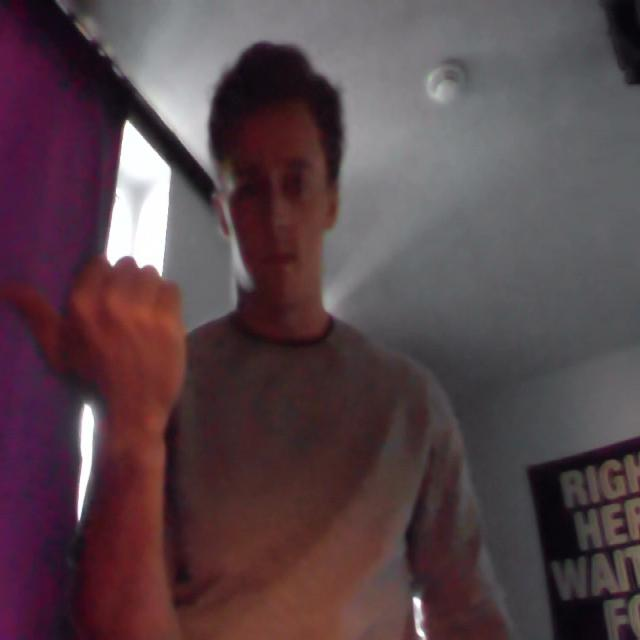left: (7, 240, 209, 460)
